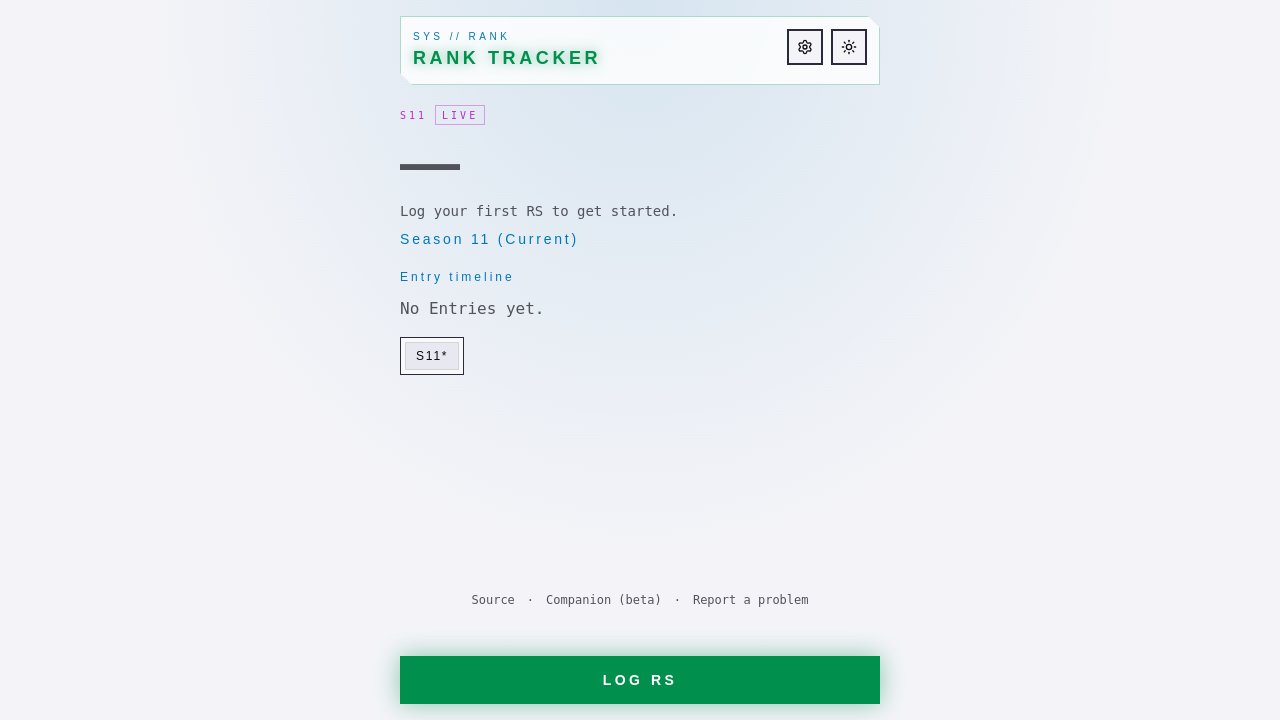
Test: Export blocked download shows failure line on Data
This screenshot has width=1280, height=720.
Click the button named "Data" at point(805, 47), box [787,29,823,65]
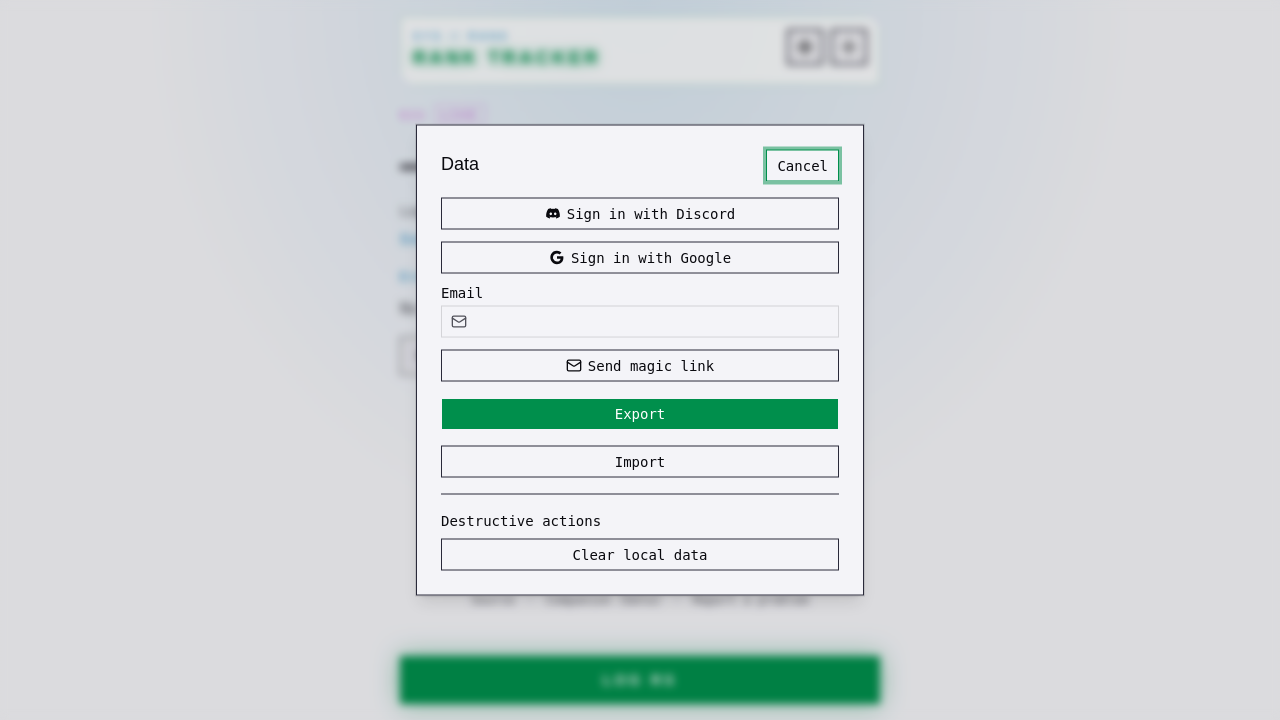
Click the button "Export" at point(640, 414), box [441,398,839,430]
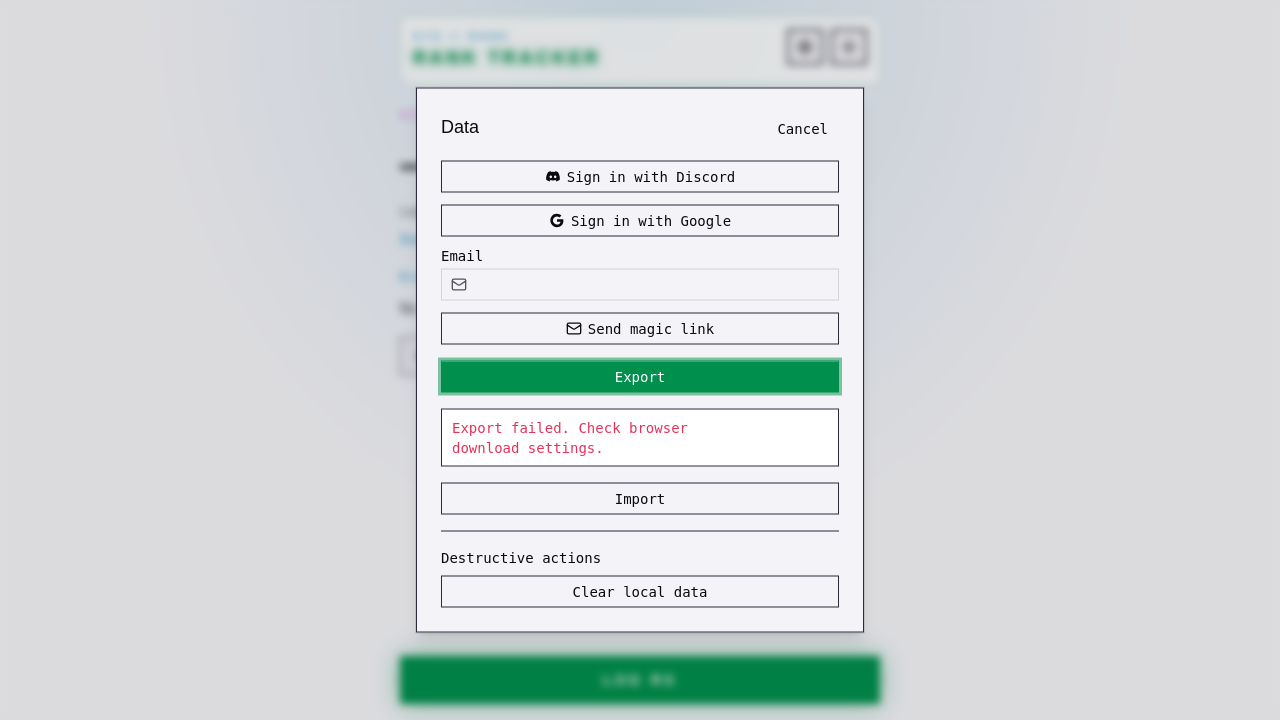
expect the text "Export failed. Check browser download settings." is shown: met, box [452,420,688,456]
